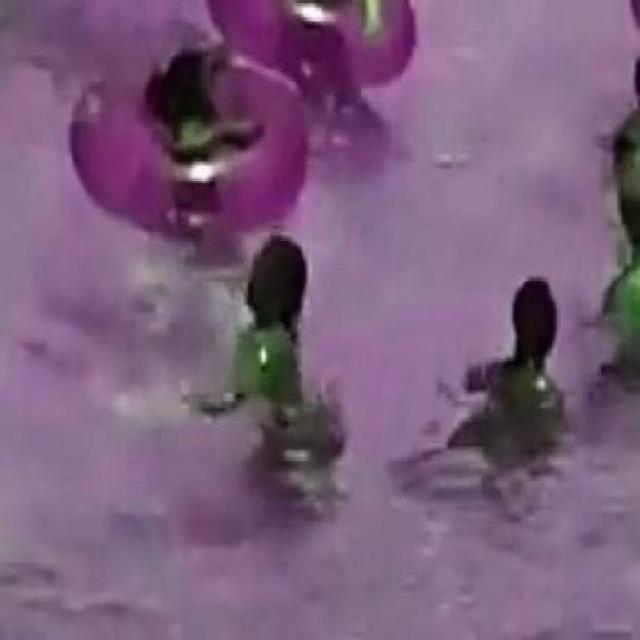drowning: (229, 244, 314, 424), (490, 282, 564, 443)
